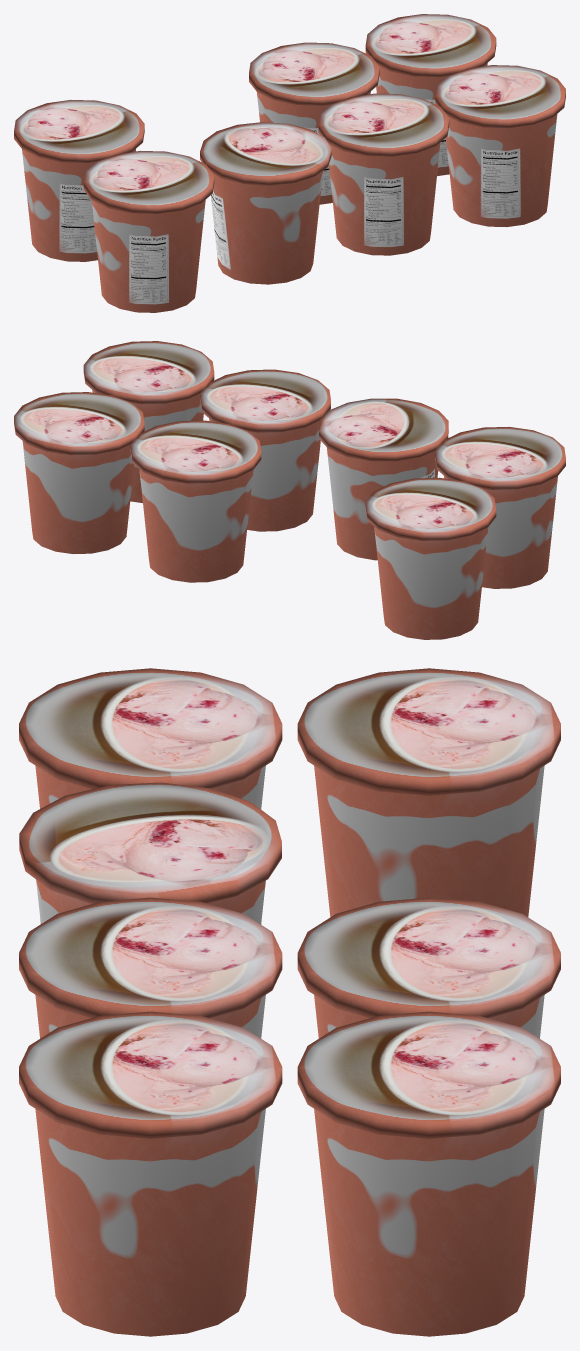
Rendered from iceCream_Medium.fbx.
3 views of the same model, one above another, from view 1: azimuth 30°, elevation 25°; view 2: azimuth 150°, elevation 25°; view 3: azimuth 270°, elevation 25° (orthographic). The views are drawn at different scales.
Parts seen in each view (by area): view 1: Ice Cream_Medium; view 2: Ice Cream_Medium; view 3: Ice Cream_Medium.
Part boxes in pixels (x1,y1,x2,y2): Ice Cream_Medium: (14, 14, 565, 312); Ice Cream_Medium: (14, 341, 565, 639); Ice Cream_Medium: (19, 668, 560, 1336).
Bounding box in the file's own units: 520 × 122 × 262.
Materials: 1 (1 with a texture image).
